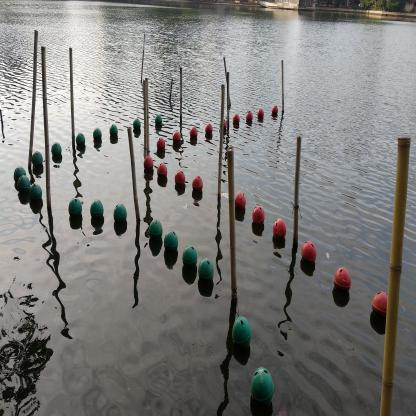green_buoy: (250, 364, 274, 410), (233, 315, 252, 355), (198, 257, 216, 290), (163, 230, 179, 260), (90, 198, 104, 228), (182, 245, 197, 272), (148, 217, 162, 243), (114, 204, 127, 229), (68, 197, 82, 220), (17, 176, 31, 198), (31, 151, 45, 172), (32, 186, 43, 212), (108, 122, 121, 140), (51, 140, 61, 162), (74, 132, 86, 148), (94, 127, 103, 143), (155, 114, 163, 129), (13, 166, 26, 175), (133, 118, 141, 132)
red_buoy: (370, 290, 388, 326), (272, 215, 288, 247), (335, 265, 351, 296), (303, 238, 317, 273), (235, 189, 247, 218), (253, 204, 265, 231), (174, 170, 187, 189), (143, 156, 154, 178), (156, 164, 168, 182), (193, 176, 203, 195), (156, 137, 166, 155), (173, 130, 181, 148), (206, 122, 213, 140), (190, 128, 197, 144), (271, 105, 279, 119), (234, 114, 241, 129), (246, 111, 253, 126), (258, 110, 264, 123)
